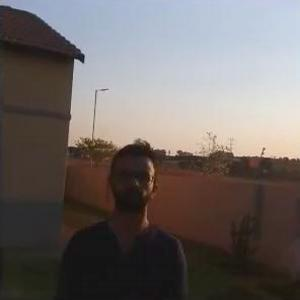follow: (53, 132, 190, 299)
